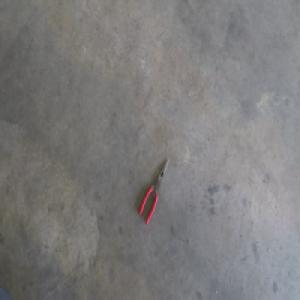Pliers: (139, 158, 169, 223)
